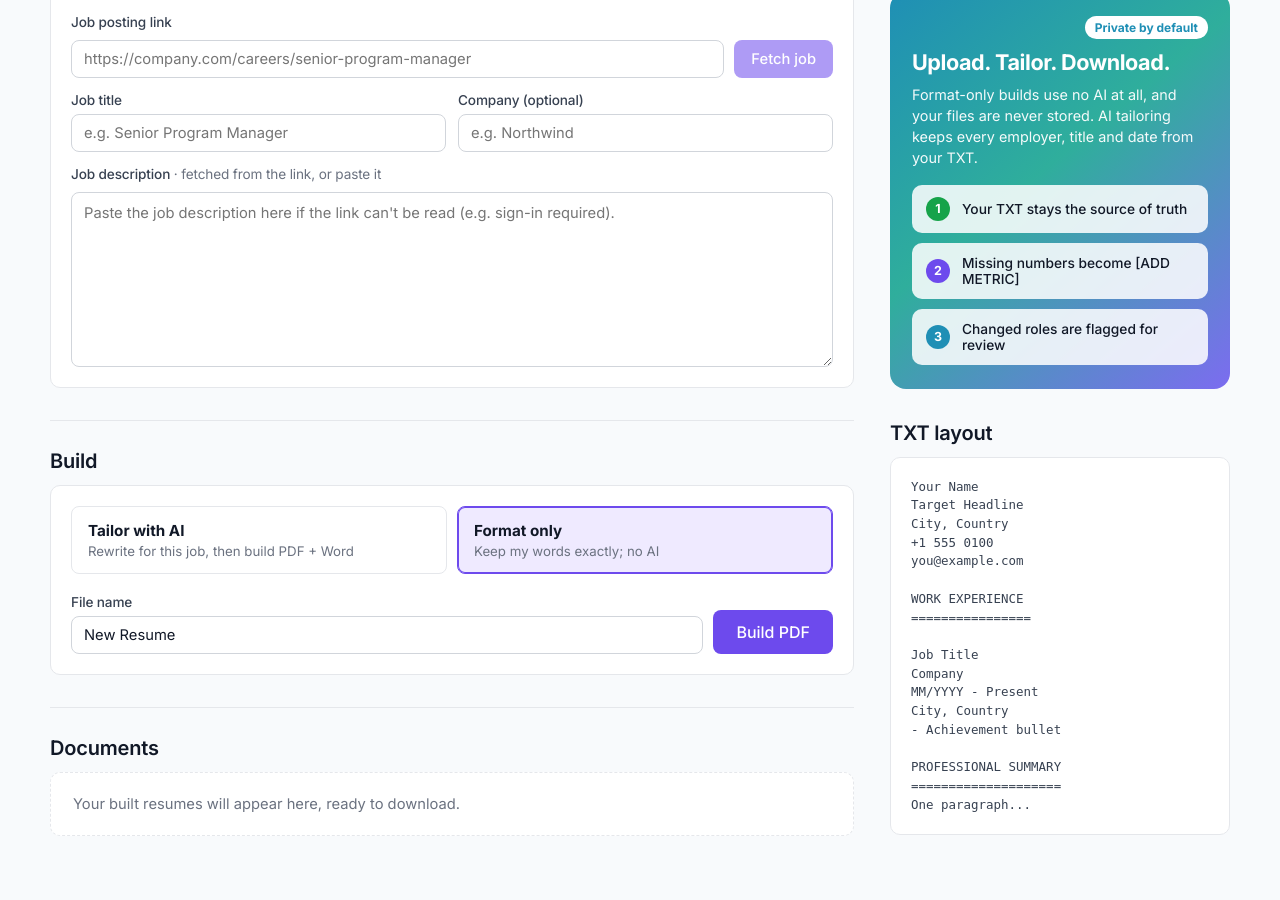
StudioDashboard › surfaces backend failures
Earlier steps of the test are not shown.
(page scrolled)
Click the button with test id "build-button".
click(773, 632)  # box [713,610,833,654]
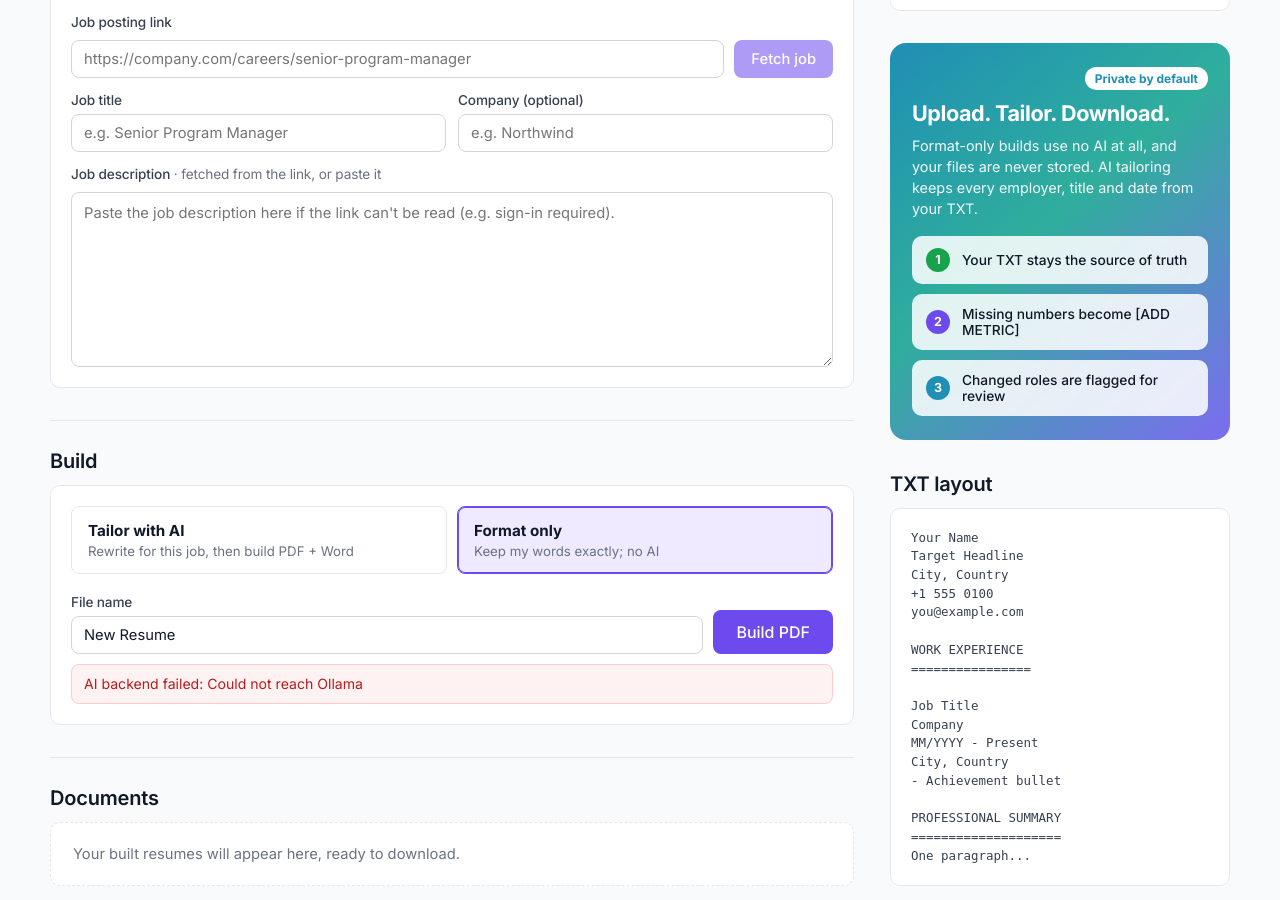
Expected: the message shows "Could not reach Ollama", [84,674,363,692]
